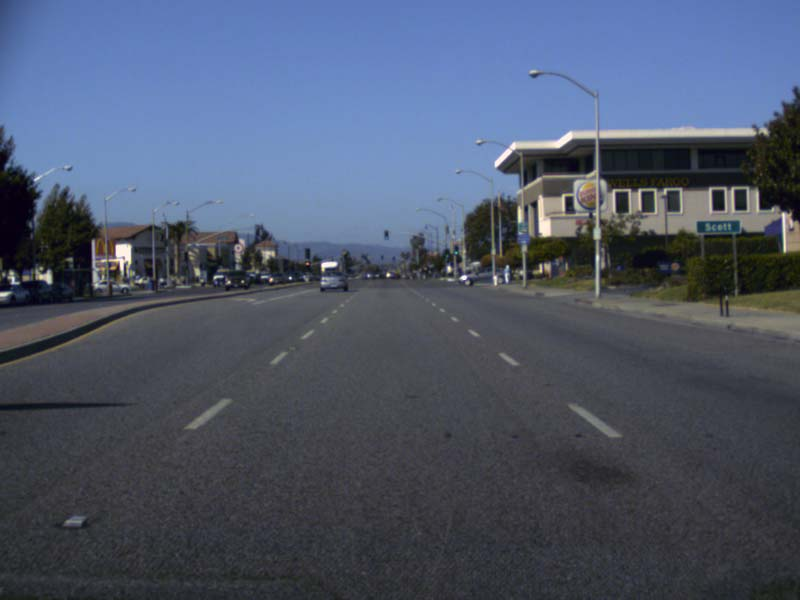Green: (444, 248, 449, 258), (383, 230, 388, 239), (454, 246, 458, 255)
Red: (305, 261, 309, 270)
Yellow: (342, 249, 345, 257)
